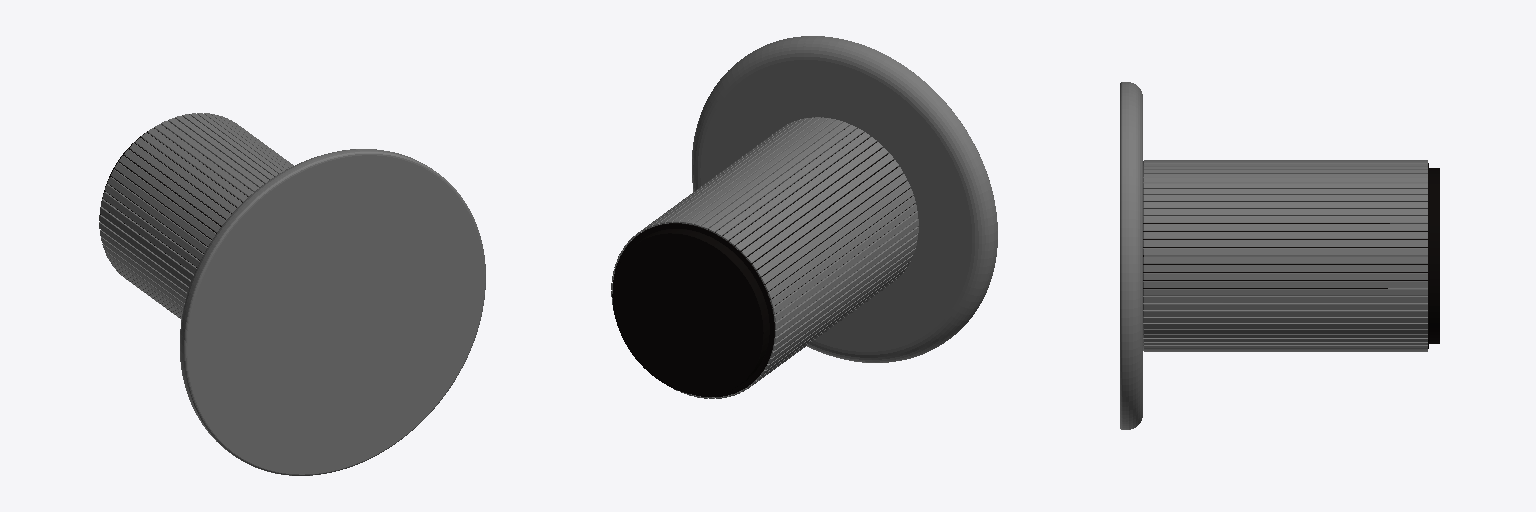
File: Gubi_Moon_Lounge_Table_mat(1).obj
3 views of the same model, side by side, from view 1: azimuth 30°, elevation 25°; view 2: azimuth 150°, elevation 25°; view 3: azimuth 270°, elevation 25° (orthographic).
Parts seen in each view (by area): view 1: Gubi_Moon_Lounge_Table_mat1; view 2: Gubi_Moon_Lounge_Table_mat1; view 3: Gubi_Moon_Lounge_Table_mat1.
Boxes of the visible parts, <box> form: Gubi_Moon_Lounge_Table_mat1: <box>99,113,485,475</box>; Gubi_Moon_Lounge_Table_mat1: <box>611,36,997,398</box>; Gubi_Moon_Lounge_Table_mat1: <box>1120,82,1439,429</box>.
Bounding box in the file's own units: 59.96 × 59.96 × 55.